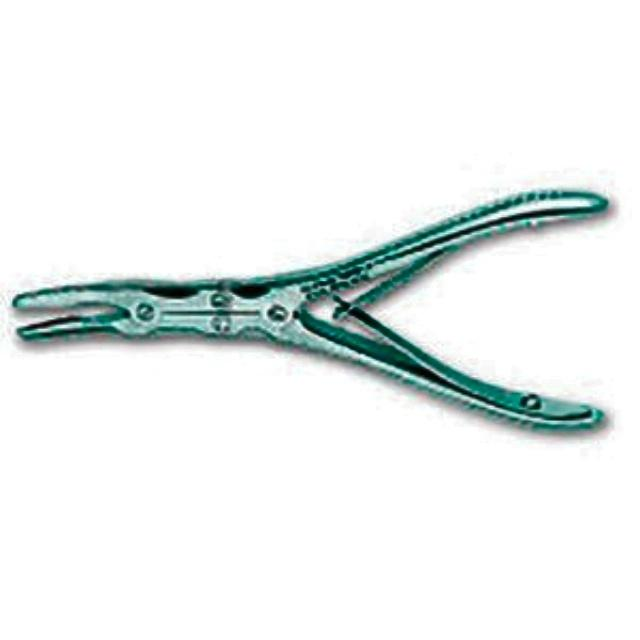gubia: (10, 188, 614, 435)
